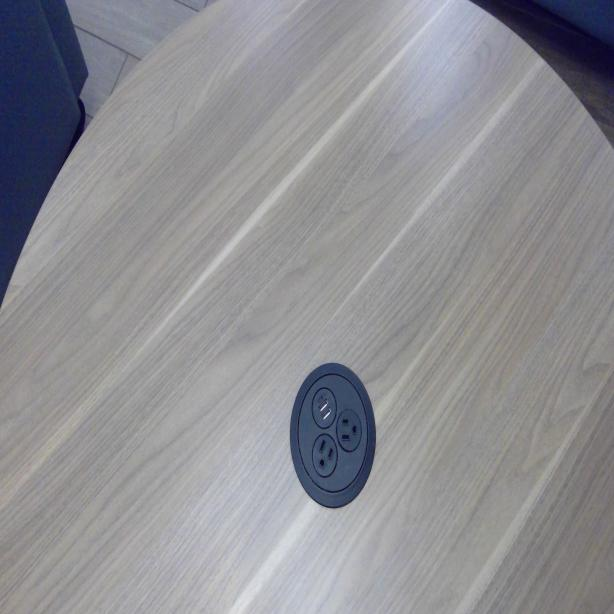typeb: (314, 436, 338, 476), (339, 413, 361, 449)
